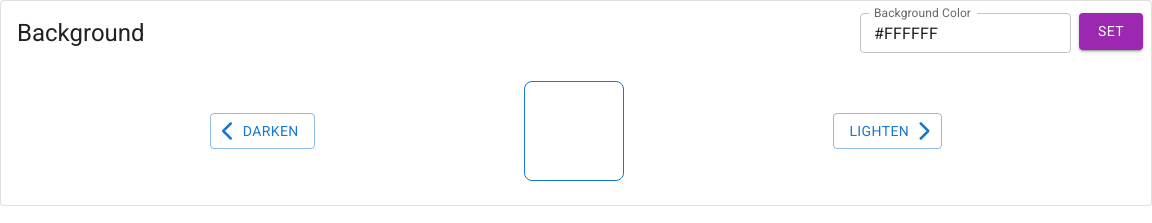
Test case: ColorSlider.tsx › Darken
The width and height of the screenshot is (1152, 223).
Click the button "Darken" at (262, 131), box [210,113,315,149]
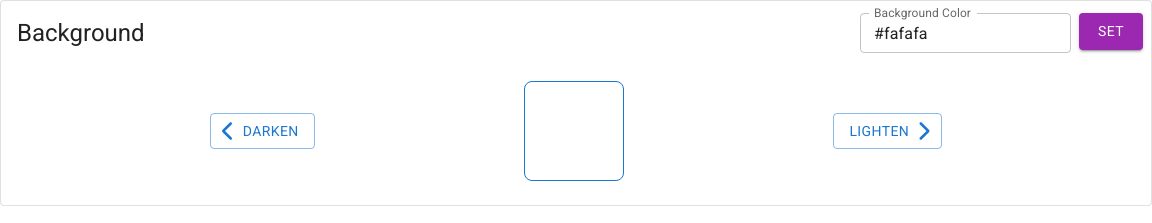
Expected: the number of fields is 1, [860,13,1071,53]
Result: the field holds "#fafafa" at [860,13,1071,53]
